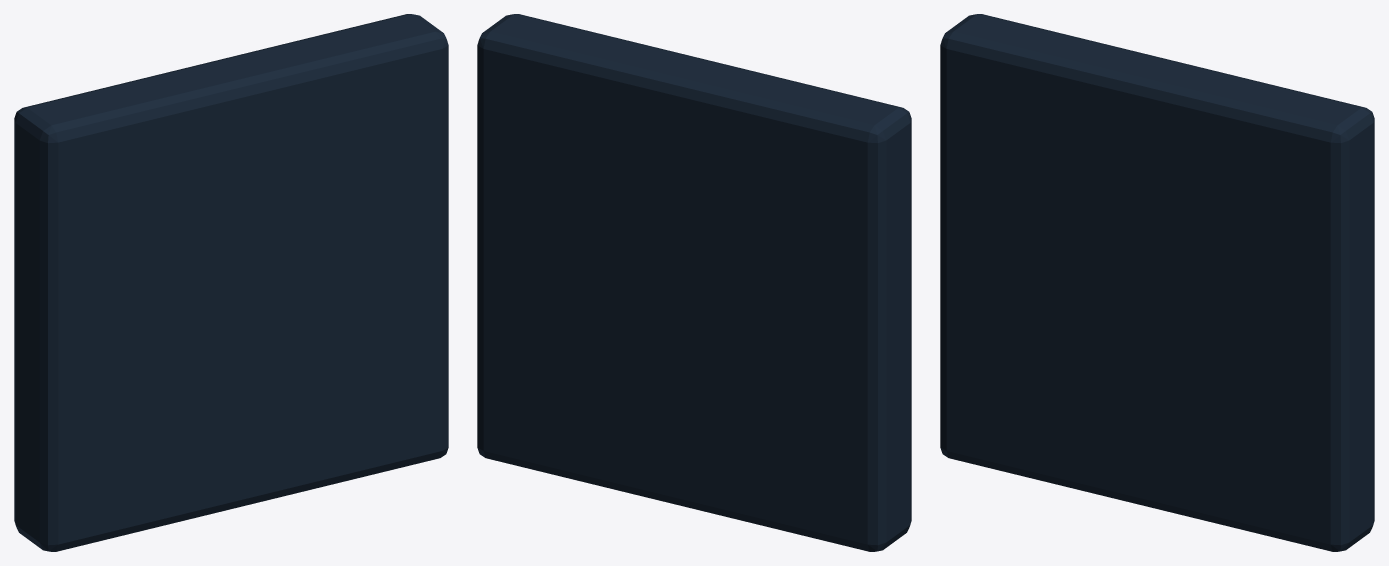
File: Wall.obj
3 views of the same model, side by side, from view 1: azimuth 30°, elevation 25°; view 2: azimuth 150°, elevation 25°; view 3: azimuth 330°, elevation 25° (orthographic).
Visible parts, largest first — view 1: Wall_M_gunmetal; view 2: Wall_M_gunmetal; view 3: Wall_M_gunmetal.
Boxes of the visible parts, <box> form: Wall_M_gunmetal: <box>14,14,448,551</box>; Wall_M_gunmetal: <box>477,14,911,551</box>; Wall_M_gunmetal: <box>940,14,1374,551</box>.
Bounding box in the file's own units: 1 × 1 × 0.16.
